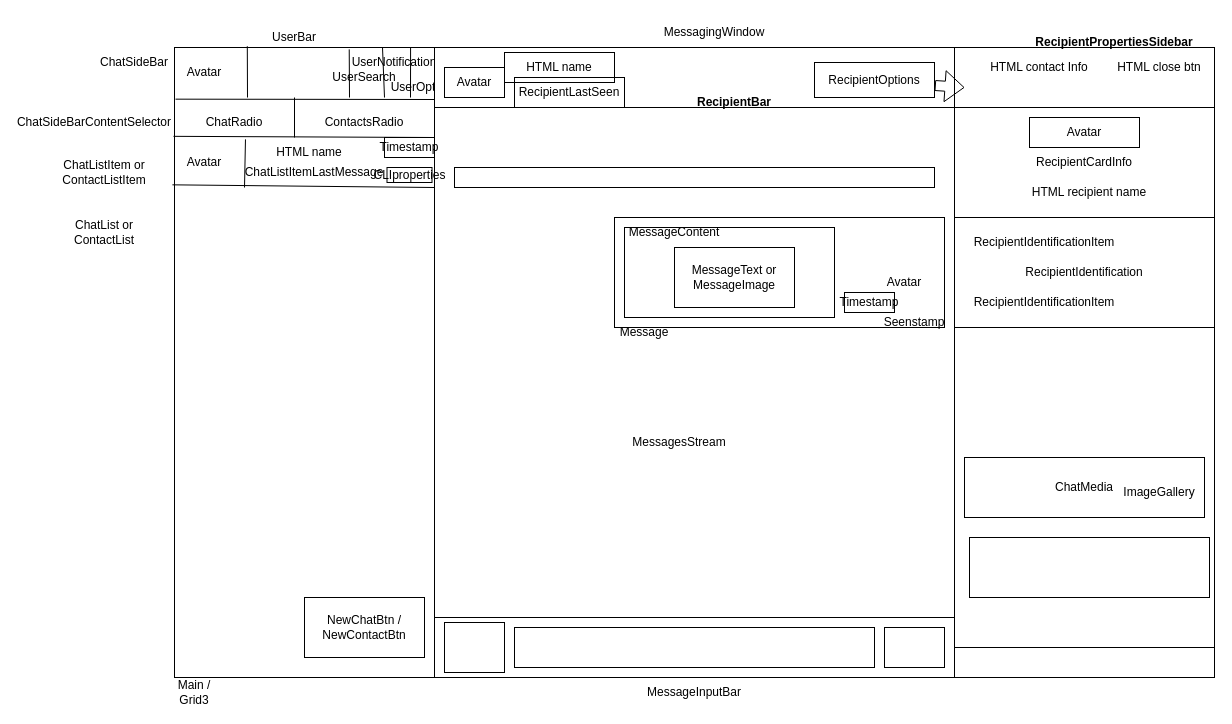
The diagram is 1232 pixels wide and 724 high, and some of its shapes have lost their labels. Here are the shapes that lost their labels. From the top down, the centre of each, then its label:
[694,177]: MessageTimeDelimiter
[1089,567]: ChatDocuments
[474,647]: Message- Input- Imoji
[694,647]: MessageInputText
[914,647]: Message- Input- Send
[1084,662]: RecepientSettings
